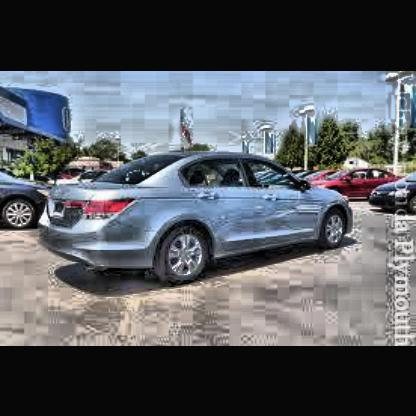Honda Accord Sedan 2012: (40, 150, 356, 290)
